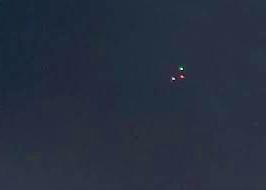Plane: (159, 58, 198, 87)
